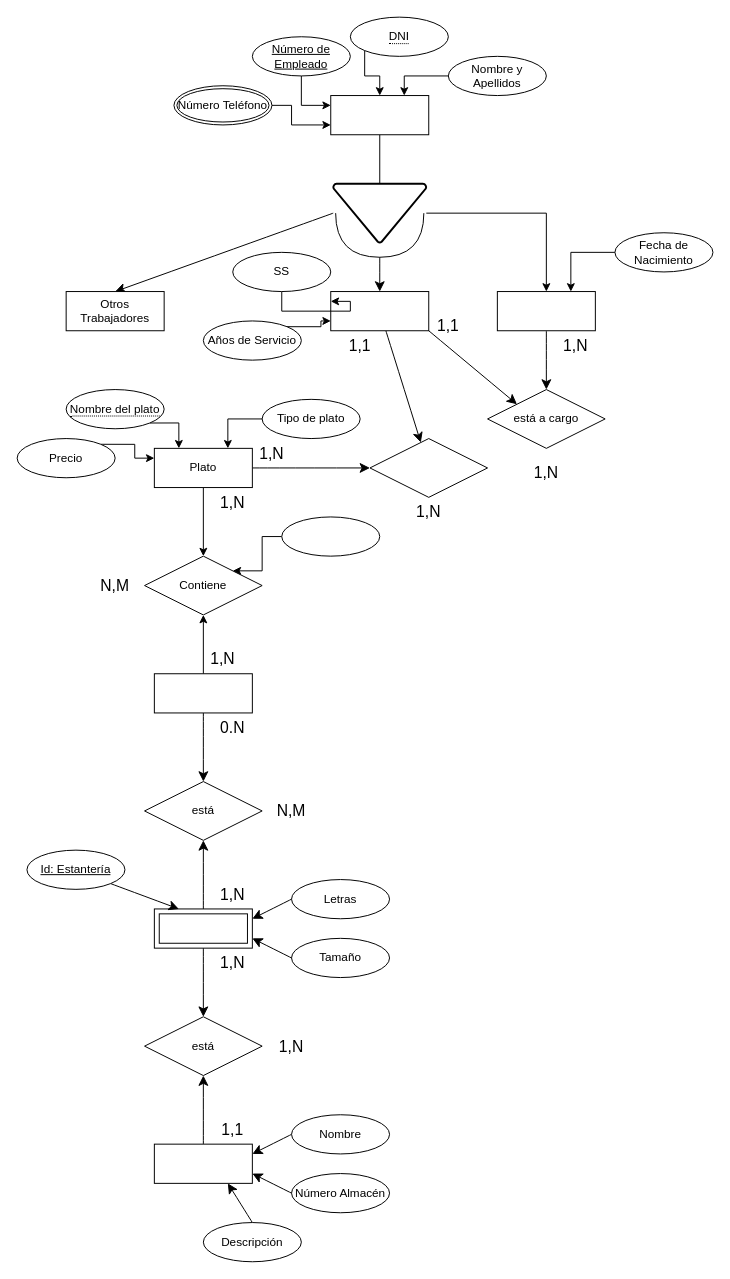
Image size: 730x1279. Some labels were removed from this diagram. Here are the shapes that lost their labels. From the top down, the box of each, then its label:
(330, 95, 429, 135): Empleado
(332, 182, 427, 243): ISA
(330, 291, 429, 331): Cocineros
(496, 291, 595, 331): Pinche
(369, 438, 488, 497): prepara
(281, 516, 380, 556): Cantidad
(153, 673, 252, 713): Ingredientes
(153, 908, 252, 948): Estantería
(153, 1143, 252, 1183): Almacén
